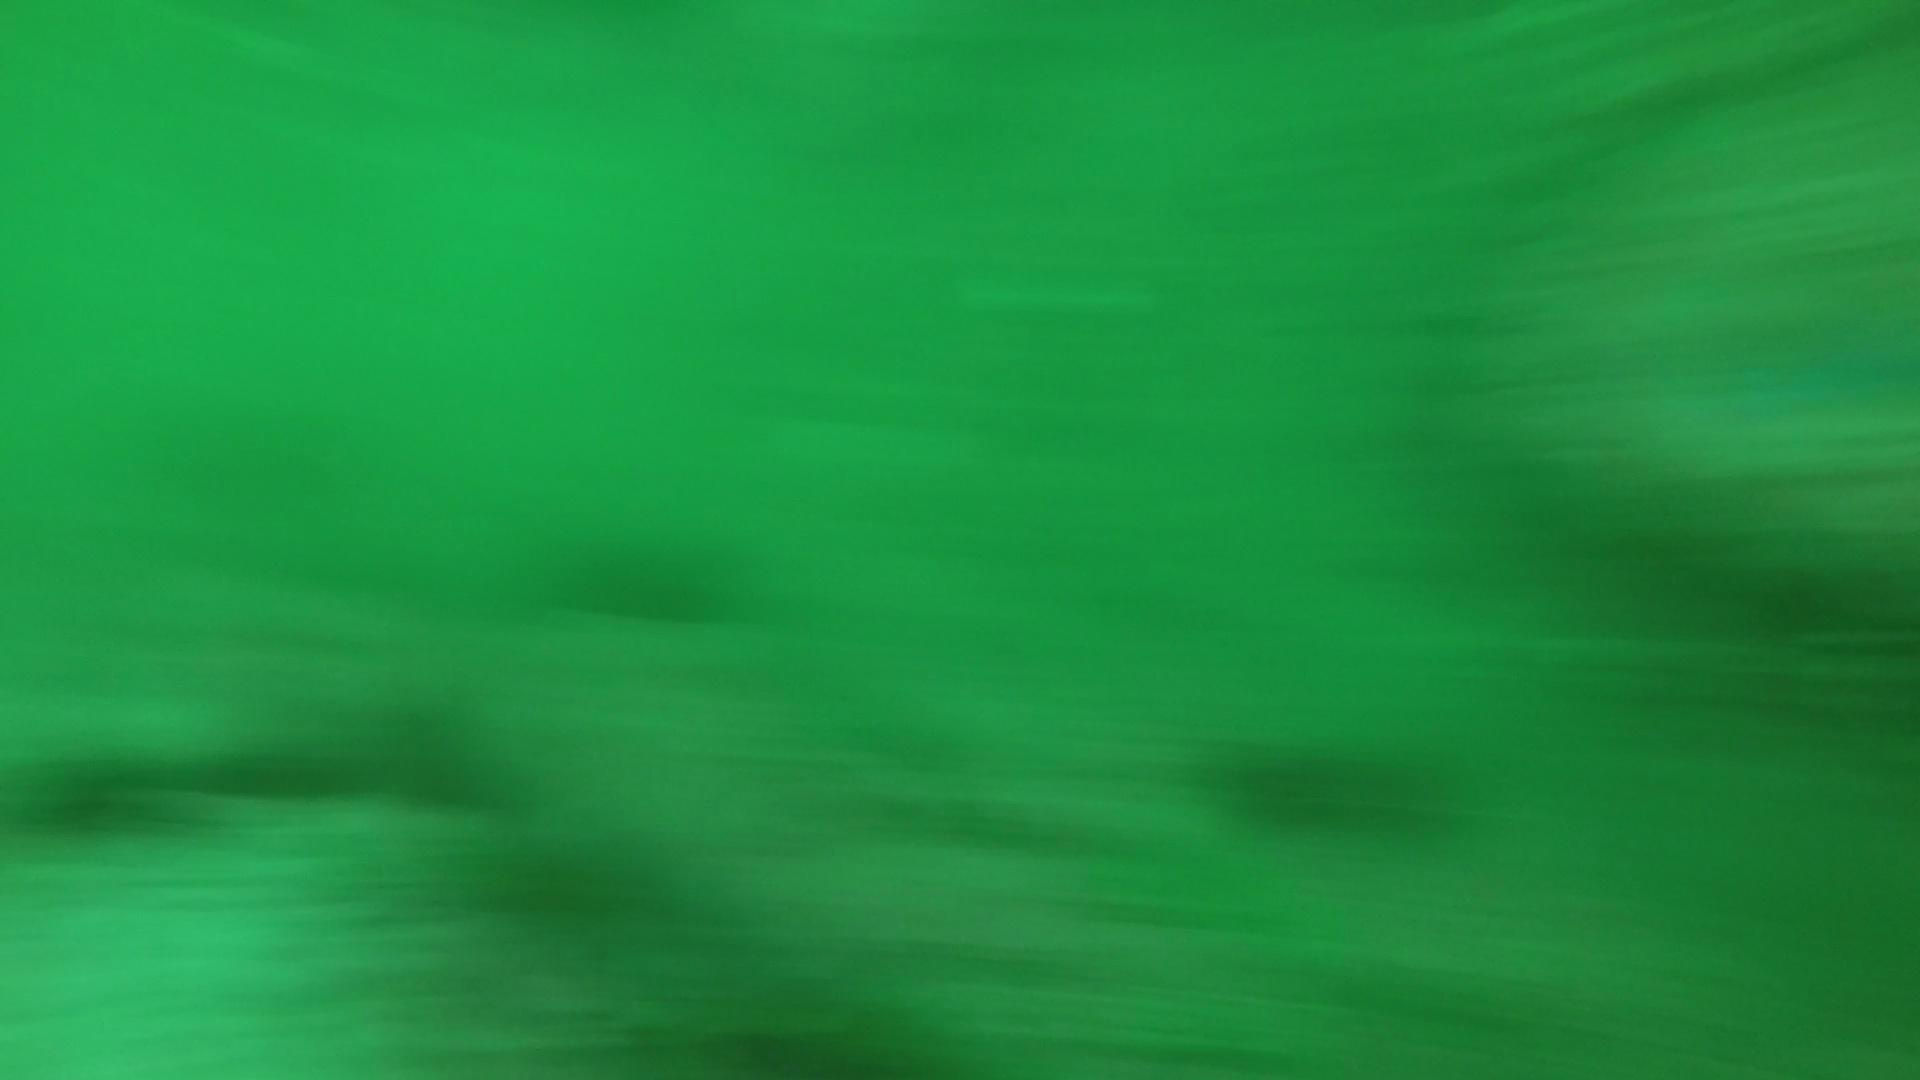echinus: (1211, 725, 1458, 843), (554, 524, 737, 634), (29, 744, 187, 855), (182, 717, 340, 828), (361, 700, 520, 810)
